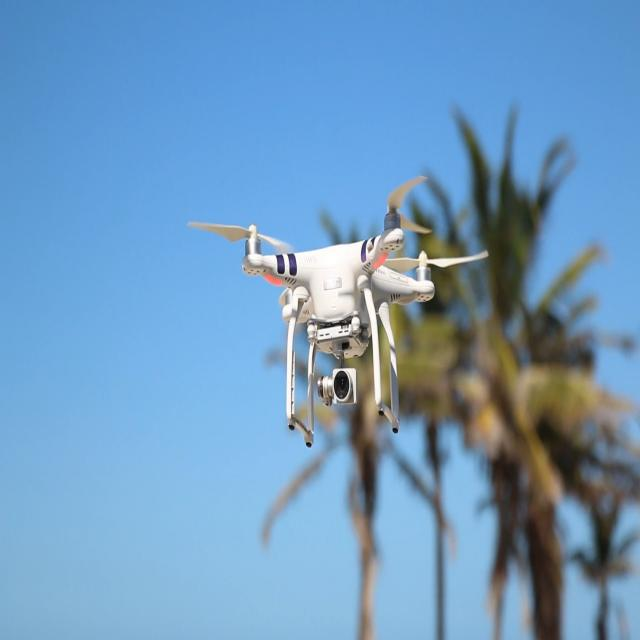Drone: (192, 166, 491, 437)
